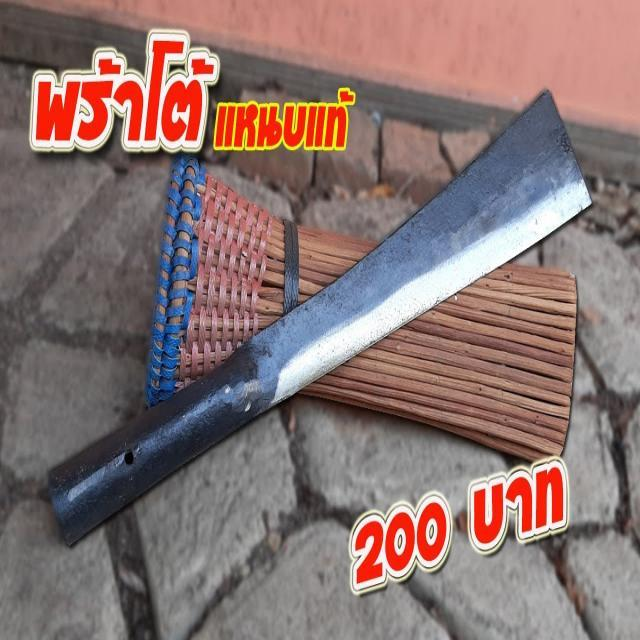eto: (34, 72, 606, 567)
